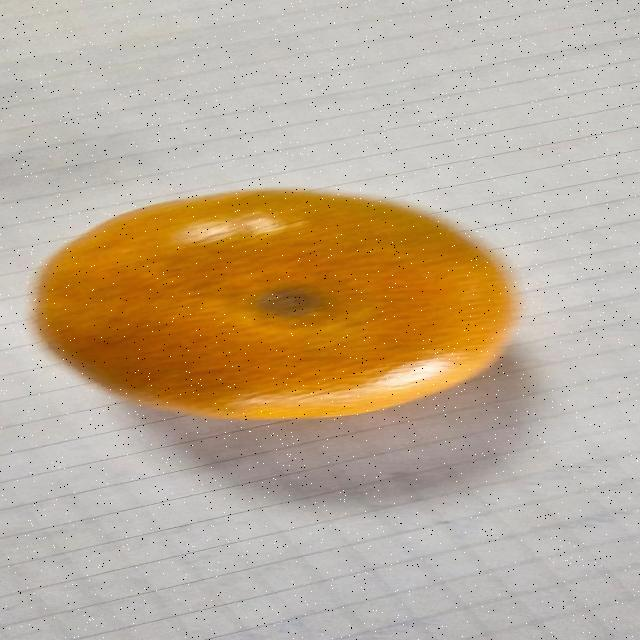Jeruk Mandarin: (8, 180, 540, 424)
